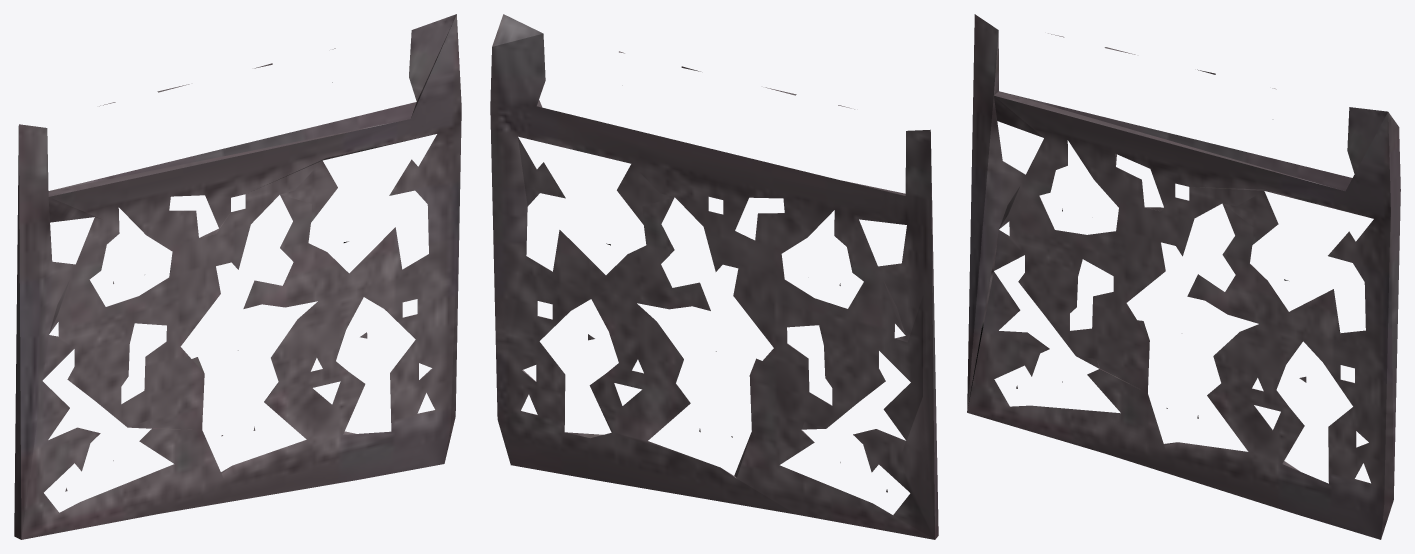
File: bg_wasteland_fence_1_lod1.glb
3 views of the same model, side by side, from view 1: azimuth 30°, elevation 25°; view 2: azimuth 150°, elevation 25°; view 3: azimuth 330°, elevation 25° (orthographic). The views are drawn at different scales.
Parts seen in each view (by area): view 1: body; view 2: body; view 3: body.
Boxes of the visible parts, left/top/right/bottom form: body: left=14, top=14, right=461, bottom=539; body: left=490, top=14, right=938, bottom=539; body: left=967, top=14, right=1400, bottom=539.
Bounding box in the file's own units: 1.37 × 1.33 × 0.0681.
1 material, 1 textured.
